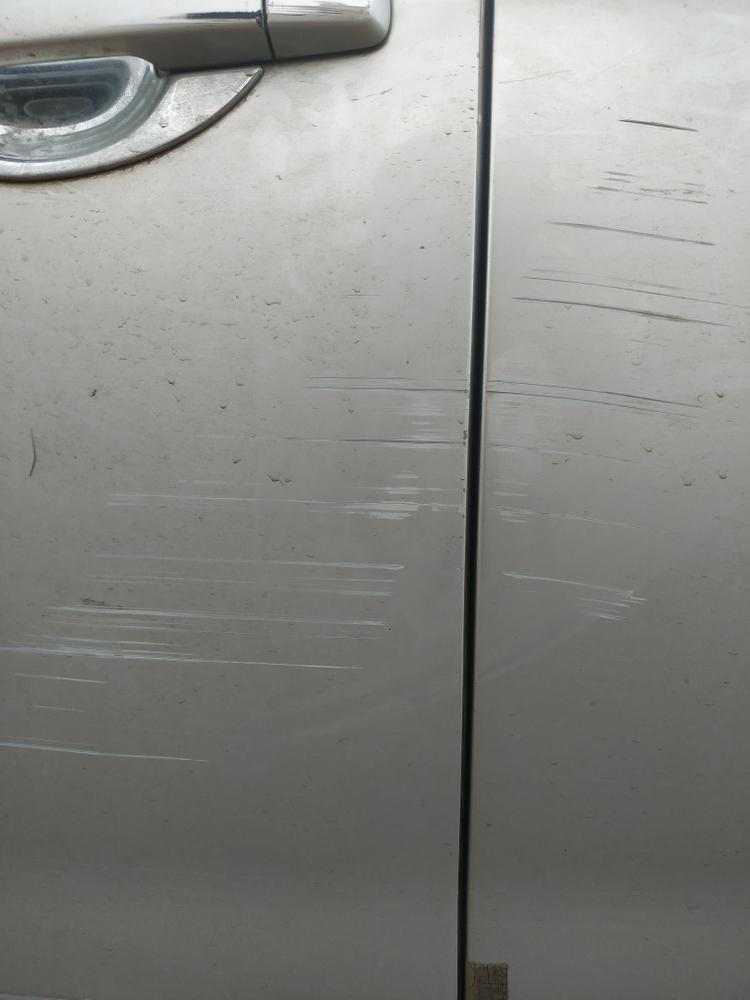scratch: (0, 288, 470, 759), (487, 95, 748, 629)
